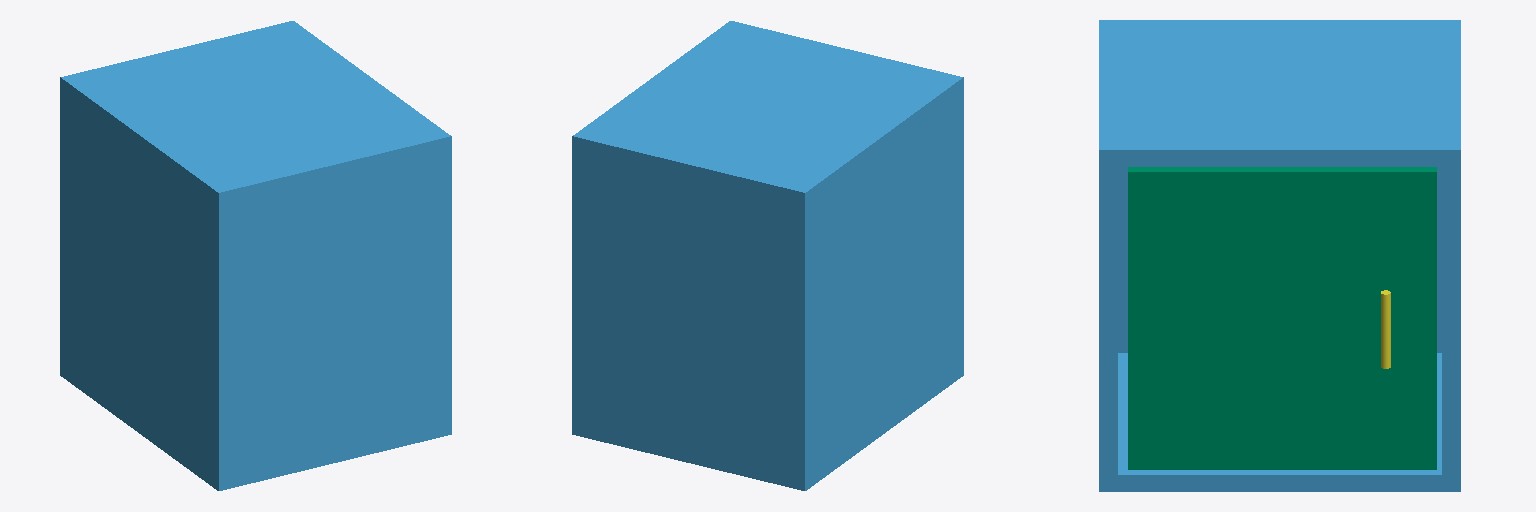
robot.urdf — my_cabinet:
<?xml version="1.0" ?>
<robot name="my_cabinet">
	<link name="world"/>
	<joint name="virtual_joint" type="fixed">
		<parent link="world"/>
		<child link="base_cabinet_link"/>
		<origin xyz="0.0 0.0 0.0" rpy="0.0 0.0 0.0"/>
	</joint>
	<link name="base_cabinet_link">
		<visual>
			<origin xyz="0.0 -0.0025 -0.1746270574151963" rpy="0.0 0.0 0.0"/>
			<geometry>
				<box size="0.3 0.3527637023555533 0.018"/>
			</geometry>
		</visual>
		<collision name="base_cabinet_link_collision_0">
			<origin xyz="0.0 -0.0025 -0.1746270574151963" rpy="0.0 0.0 0.0"/>
			<geometry>
				<box size="0.3 0.3527637023555533 0.018"/>
			</geometry>
		</collision>
		<visual>
			<origin xyz="0.0 0.16488185117777668 0.0" rpy="0.0 0.0 0.0"/>
			<geometry>
				<box size="0.3 0.018 0.3672541148303926"/>
			</geometry>
		</visual>
		<collision name="base_cabinet_link_collision_1">
			<origin xyz="0.0 0.16488185117777668 0.0" rpy="0.0 0.0 0.0"/>
			<geometry>
				<box size="0.3 0.018 0.3672541148303926"/>
			</geometry>
		</collision>
		<visual>
			<origin xyz="0.0 -0.16988185117777668 0.0" rpy="0.0 0.0 0.0"/>
			<geometry>
				<box size="0.3 0.018 0.3672541148303926"/>
			</geometry>
		</visual>
		<collision name="base_cabinet_link_collision_2">
			<origin xyz="0.0 -0.16988185117777668 0.0" rpy="0.0 0.0 0.0"/>
			<geometry>
				<box size="0.3 0.018 0.3672541148303926"/>
			</geometry>
		</collision>
		<visual>
			<origin xyz="0.0 -0.0025 0.1746270574151963" rpy="0.0 0.0 0.0"/>
			<geometry>
				<box size="0.3 0.3527637023555533 0.018"/>
			</geometry>
		</visual>
		<collision name="base_cabinet_link_collision_3">
			<origin xyz="0.0 -0.0025 0.1746270574151963" rpy="0.0 0.0 0.0"/>
			<geometry>
				<box size="0.3 0.3527637023555533 0.018"/>
			</geometry>
		</collision>
		<visual>
			<origin xyz="-0.141 -0.0025 0.0" rpy="0.0 0.0 0.0"/>
			<geometry>
				<box size="0.018 0.3527637023555533 0.3672541148303926"/>
			</geometry>
		</visual>
		<collision name="base_cabinet_link_collision_4">
			<origin xyz="-0.141 -0.0025 0.0" rpy="0.0 0.0 0.0"/>
			<geometry>
				<box size="0.018 0.3527637023555533 0.3672541148303926"/>
			</geometry>
		</collision>
		<inertial>
			<mass value="0.200000"/>
			<inertia ixx="0.004322" ixy="0.0" ixz="0.0" iyy="0.003748" iyz="0.0" izz="0.003574"/>
		</inertial>
	</link>
	<link name="door_link">
		<visual>
			<origin xyz="0.0 -0.15088185117777667 0.0"/>
			<geometry>
				<box size="0.018 0.30176370235555333 0.32125411483039257"/>
			</geometry>
		</visual>
		<collision name="door_link_collision">
			<origin xyz="0.0 -0.15088185117777667 0.0"/>
			<geometry>
				<box size="0.018 0.30176370235555333 0.32125411483039257"/>
			</geometry>
		</collision>
		<inertial>
			<mass value="0.200000"/>
			<inertia ixx="0.003238" ixy="0.0" ixz="0.0" iyy="0.001725" iyz="0.0" izz="0.001523"/>
		</inertial>
	</link>
	<joint name="door_joint" type="revolute">
		<origin xyz="0.141 -0.15088185117777667 0.0" rpy="0.000000 -0.000000 3.141593"/>
		<axis xyz="0 0 1"/>
		<parent link="base_cabinet_link"/>
		<child link="door_link"/>
		<limit effort="50" lower="-1.658062789394613" upper="0" velocity="10"/>
		<dynamics friction="3.5" damping="3.5"/>
	</joint>
	<link name="handle_link">
		<visual>
			<origin xyz="0.0 0.0 0.0" rpy="0.0 0.0 0.0"/>
			<geometry>
				<cylinder length="0.08" radius="0.005"/>
			</geometry>
		</visual>
		<collision name="handle_link_collision_0">
			<origin xyz="0.0 0.0 0.0" rpy="0.0 0.0 0.0"/>
			<geometry>
				<cylinder length="0.08" radius="0.005"/>
			</geometry>
		</collision>
		<visual>
			<origin xyz="-0.01 0.0 0.02" rpy="0.0 1.5707963267948966 0.0"/>
			<geometry>
				<cylinder length="0.02" radius="0.003"/>
			</geometry>
		</visual>
		<collision name="handle_link_collision_1">
			<origin xyz="-0.01 0.0 0.02" rpy="0.0 1.5707963267948966 0.0"/>
			<geometry>
				<cylinder length="0.01" radius="0.003"/>
			</geometry>
		</collision>
		<visual>
			<origin xyz="-0.01 0.0 -0.02" rpy="0.0 1.5707963267948966 0.0"/>
			<geometry>
				<cylinder length="0.02" radius="0.003"/>
			</geometry>
		</visual>
		<collision name="handle_link_collision_2">
			<origin xyz="-0.01 0.0 -0.02" rpy="0.0 1.5707963267948966 0.0"/>
			<geometry>
				<cylinder length="0.02" radius="0.003"/>
			</geometry>
		</collision>
		<inertial>
			<mass value="0.050000"/>
			<inertia ixx="0.000027" ixy="0.0" ixz="0.0" iyy="0.000029" iyz="0.0" izz="0.000003"/>
		</inertial>
	</link>
	<joint name="handle_joint" type="fixed">
		<origin xyz="-0.028999999999999998 -0.25176370235555334 0.0" rpy="0.000000 -0.000000 3.141593"/>
		<parent link="door_link"/>
		<child link="handle_link"/>
	</joint>
	<gazebo reference="base_cabinet_link">
		<sensor name="main_sensor" type="contact">
			<selfCollide>true</selfCollide>
			<alwaysOn>true</alwaysOn>
			<updateRate>5.0</updateRate>
			<material>Gazebo/Red</material>
			<contact>
				<collision>base_cabinet_link_collision_0_collision</collision>
				<collision>base_cabinet_link_collision_1_collision</collision>
				<collision>base_cabinet_link_collision_2_collision</collision>
				<collision>base_cabinet_link_collision_3_collision</collision>
				<collision>base_cabinet_link_collision_4_collision</collision>
			</contact>
			<plugin name="gazebo_ros_bumper_controller" filename="libgazebo_ros_bumper.so">
				<bumperTopicName>/contact</bumperTopicName>
				<frameName>world</frameName>
			</plugin>
		</sensor>
	</gazebo>
	<gazebo reference="door_link">
		<sensor name="main_sensor" type="contact">
			<selfCollide>true</selfCollide>
			<alwaysOn>true</alwaysOn>
			<updateRate>5.0</updateRate>
			<material>Gazebo/Red</material>
			<contact>
				<collision>door_link_collision_collision</collision>
			</contact>
			<plugin name="gazebo_ros_bumper_controller" filename="libgazebo_ros_bumper.so">
				<bumperTopicName>/contact_door</bumperTopicName>
				<frameName>contact_door</frameName>
			</plugin>
		</sensor>
	</gazebo>
	<gazebo reference="door_link">
		<mu>3.0</mu>
		<mu2>3.0</mu2>
		<kp>10000000</kp>
		<kd>100</kd>
	</gazebo>
</robot>

--- Render facts (derived) ---
The picture shows the robot from 3 angles, left to right: view 1: azimuth 30°, elevation 25°; view 2: azimuth 150°, elevation 25°; view 3: azimuth 270°, elevation 25°; orthographic projection.
Robot: my_cabinet — 4 links, 3 joints (1 revolute, 2 fixed); root link world; default pose: all joints at 0.
Links seen in each view (by area): view 1: base_cabinet_link; view 2: base_cabinet_link; view 3: door_link, base_cabinet_link, handle_link.
Link boxes in pixels (bbox=[...]): base_cabinet_link: bbox=[60, 21, 451, 490]; base_cabinet_link: bbox=[572, 21, 963, 490]; door_link: bbox=[1128, 167, 1436, 469]; base_cabinet_link: bbox=[1099, 20, 1460, 491]; handle_link: bbox=[1381, 290, 1390, 368].
Bounding box of the posed robot: 0.325 × 0.3528 × 0.3673 m (x, y, z).
Geometry: primitives only (box / cylinder / sphere), no mesh files.
